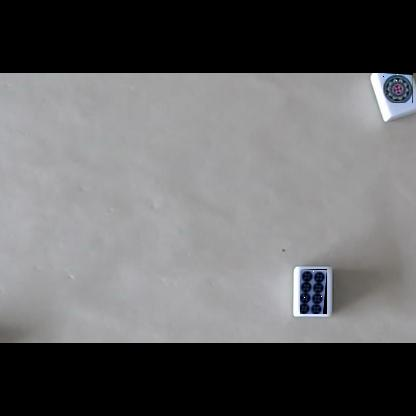1p: (383, 73, 413, 103)
8p: (300, 269, 327, 314)
